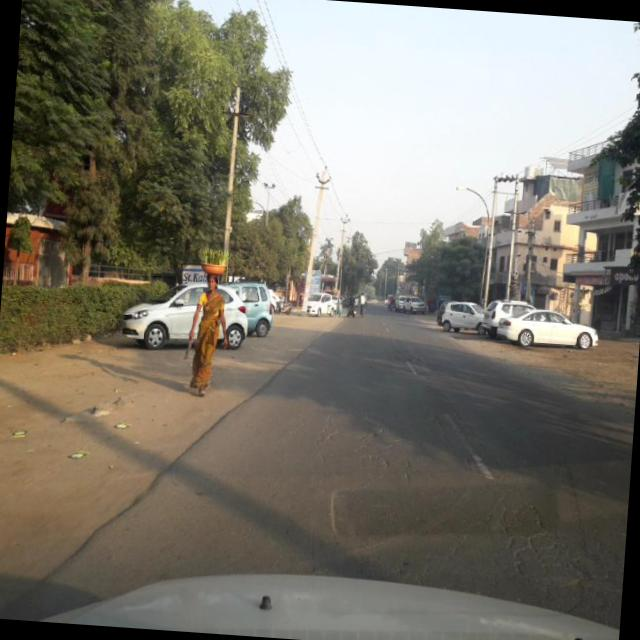crack: (469, 479, 612, 596), (312, 401, 442, 501)
